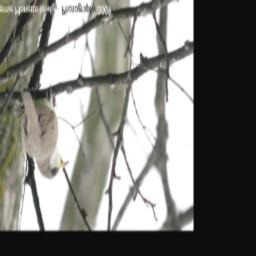Cuckoo: (19, 85, 69, 180)
